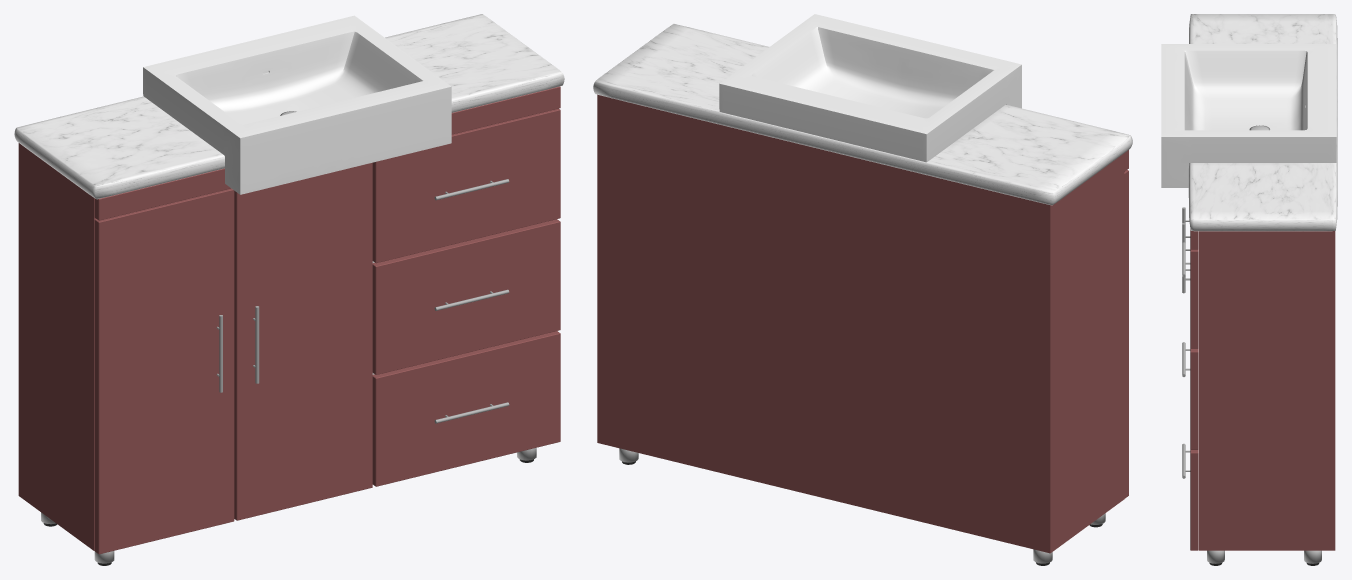
Rendered from fit-vanity.glb.
3 views of the same model, side by side, from view 1: azimuth 30°, elevation 25°; view 2: azimuth 150°, elevation 25°; view 3: azimuth 270°, elevation 25° (orthographic). The views are drawn at different scales.
Size of the model in its own units: 107 by 91.33 by 38.45.
8 materials, 1 textured.
